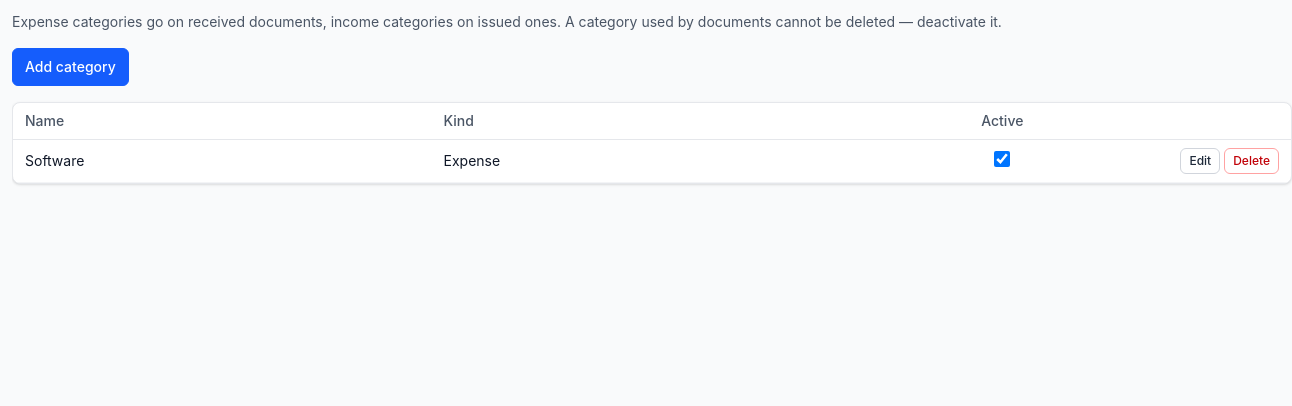
Test case: settings: categories › creates a category and reloads the list
Click the button with test id "add-category" at (70, 67), box [12,48,129,86]
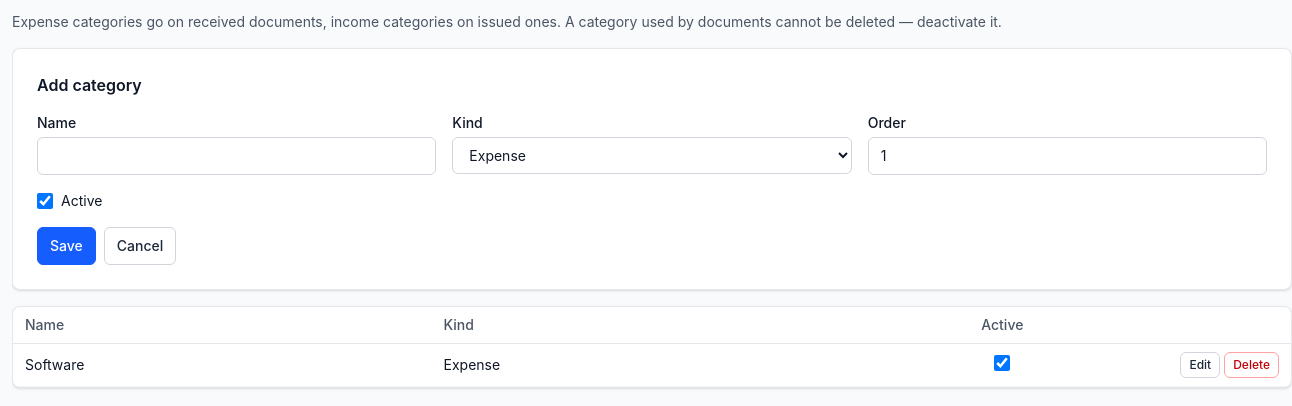
Type " Consulting " into the field with id "category-name" at (237, 156), box [37,137,436,175]
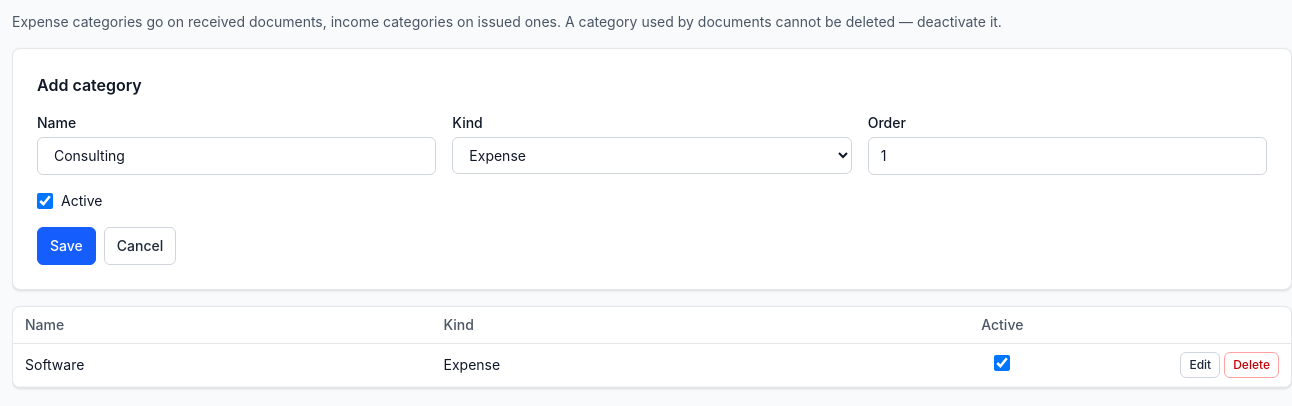
Select "Income" in the dropdown with id "category-kind" at (652, 156), box [452,137,852,174]
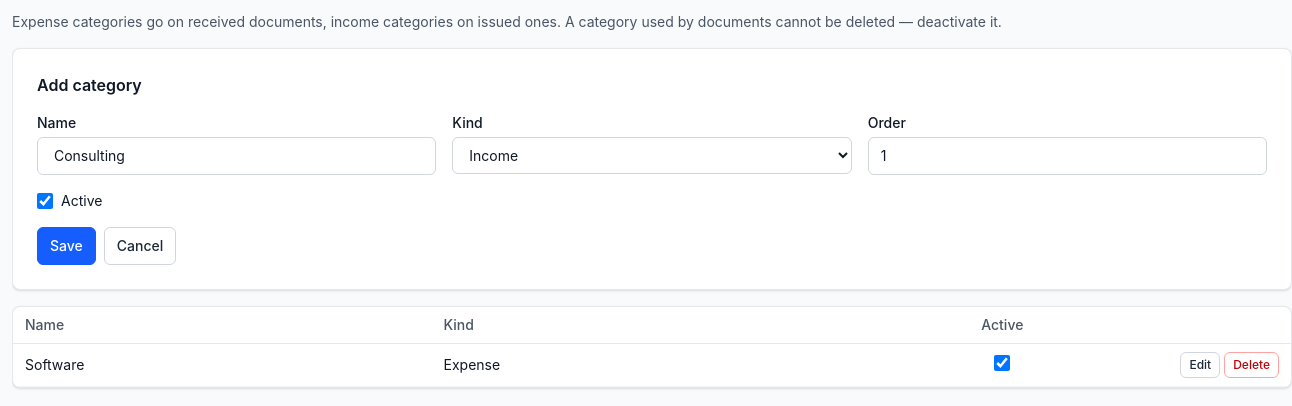
Submit the form with test id "category-form", box [12,48,1291,290]
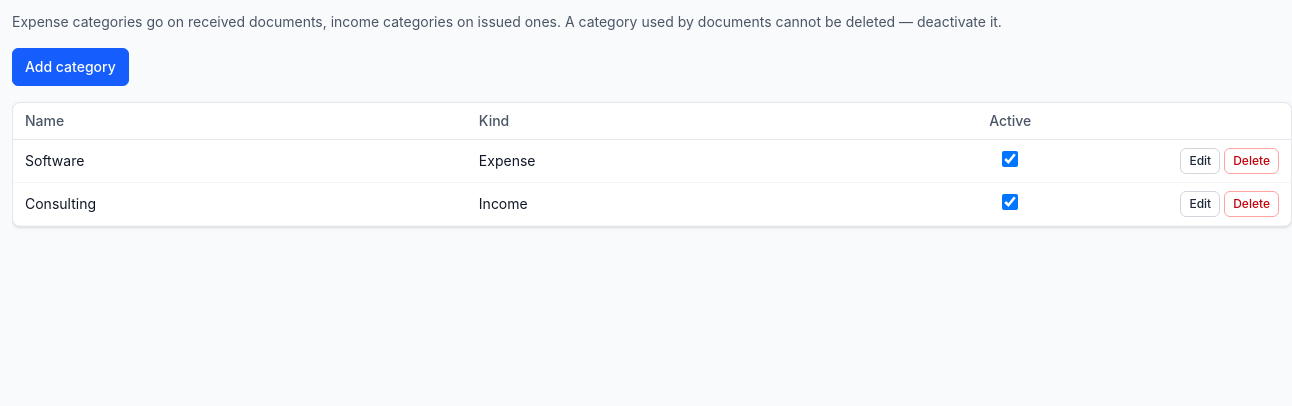
Result: the number of rows with test id "category-row" is 2 at [13,140,1291,182]; [13,182,1291,226]
